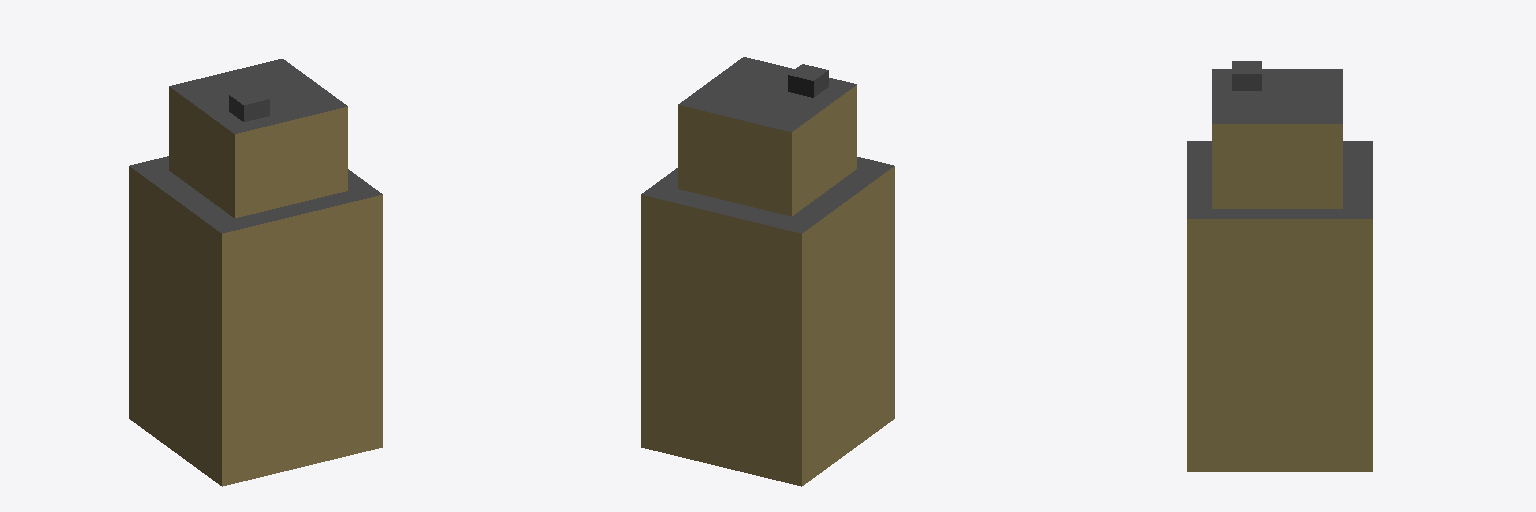
File: highrise_7.obj
3 views of the same model, side by side, from view 1: azimuth 30°, elevation 25°; view 2: azimuth 150°, elevation 25°; view 3: azimuth 270°, elevation 25° (orthographic).
Parts seen in each view (by area): view 1: Mesh1 Model; view 2: Mesh1 Model; view 3: Mesh1 Model.
Boxes of the visible parts, <box> form: Mesh1 Model: <box>129,59,382,486</box>; Mesh1 Model: <box>641,57,894,486</box>; Mesh1 Model: <box>1187,61,1372,471</box>.
Bounding box in the file's own units: 20 × 42 × 20.